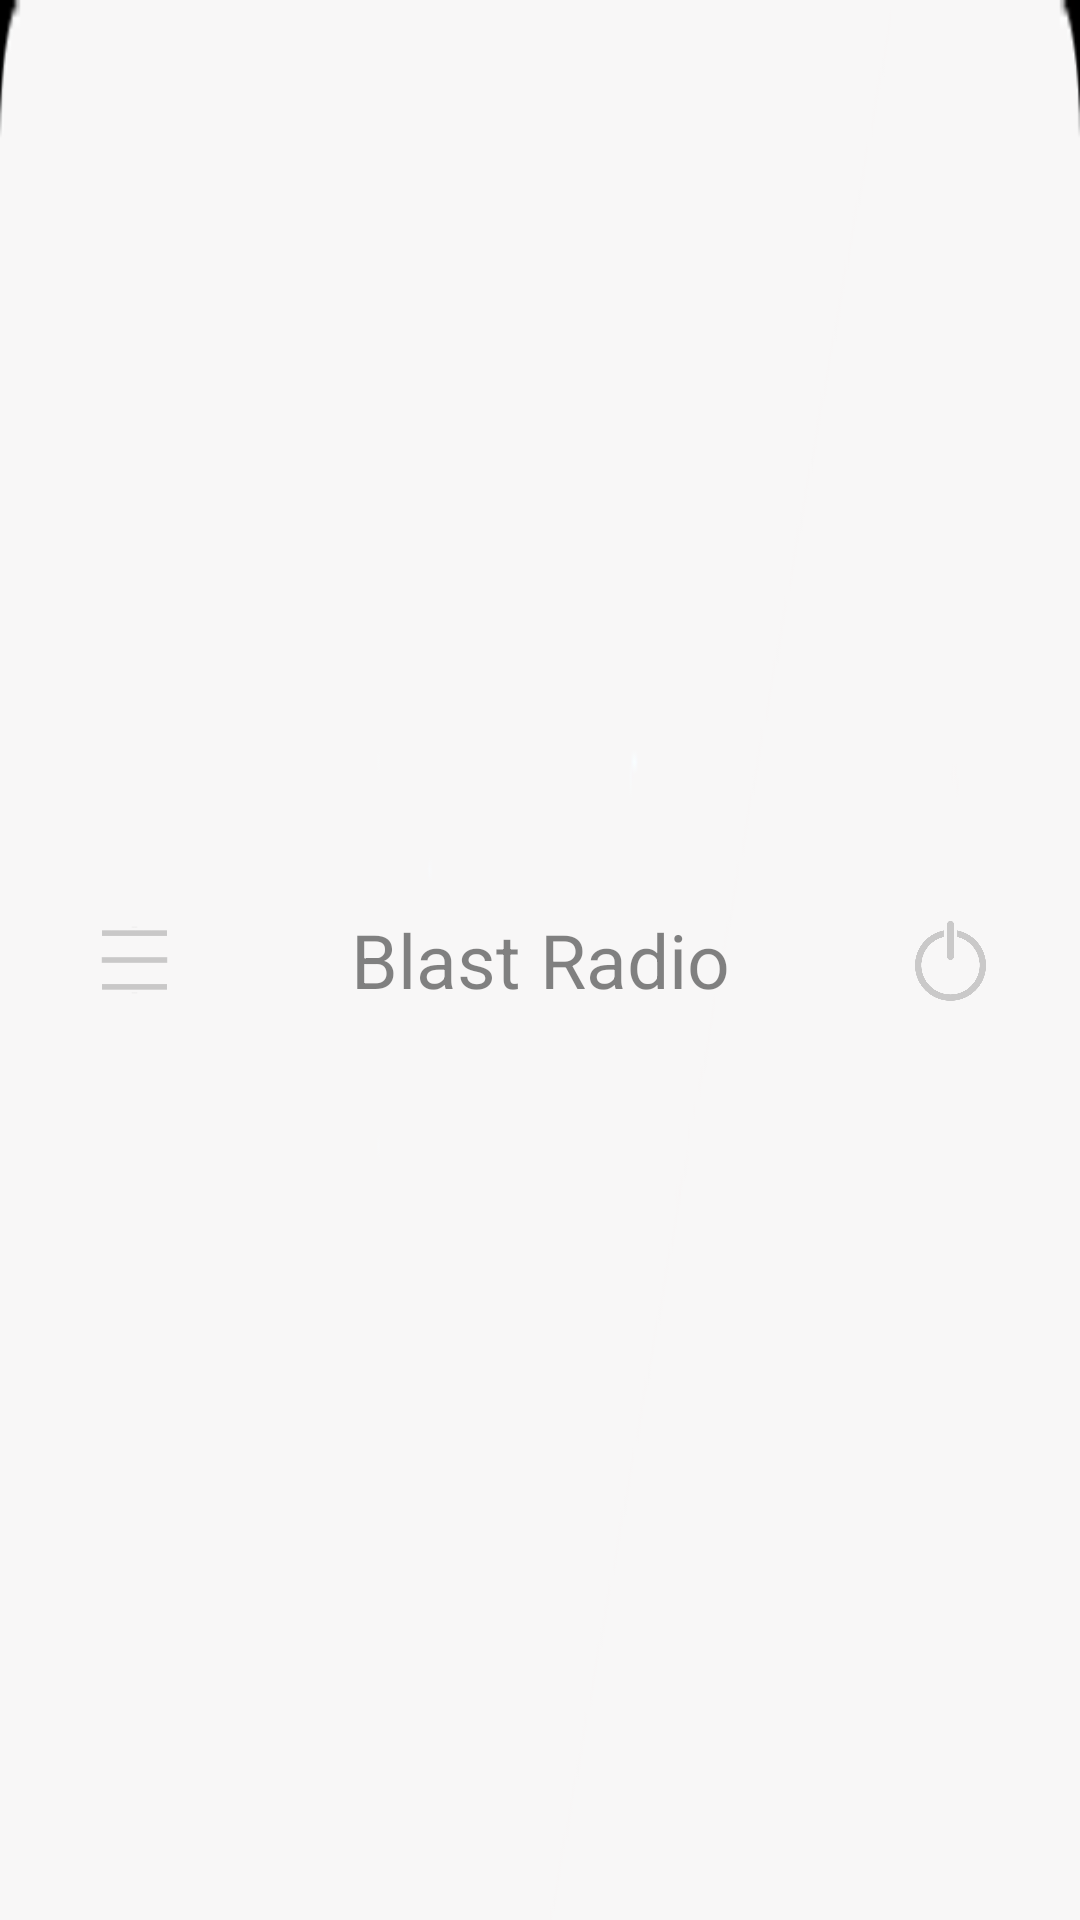

Icons on this 1080px x 1920px Android screen, each with the point to tap as (x,y):
exit: (950,961)
switch page: (134,960)
